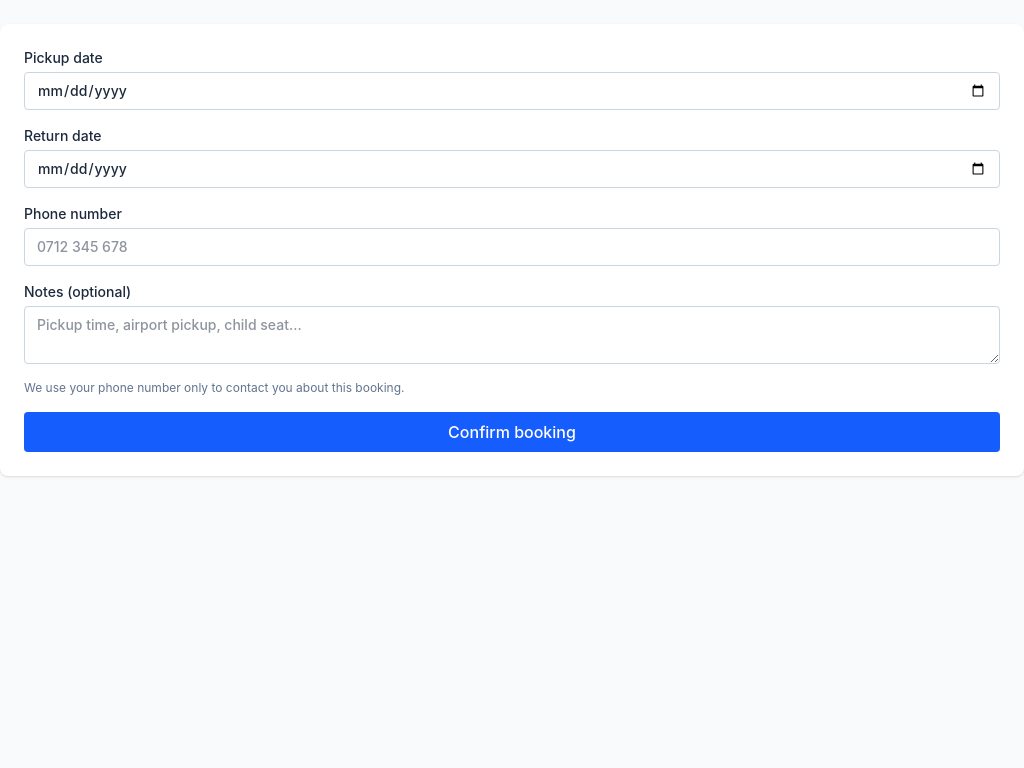
BookingForm › requires a phone number
Type "2099-01-10" into the date field labelled "Pickup date". click: (512, 91)
box: [24, 72, 1000, 110]
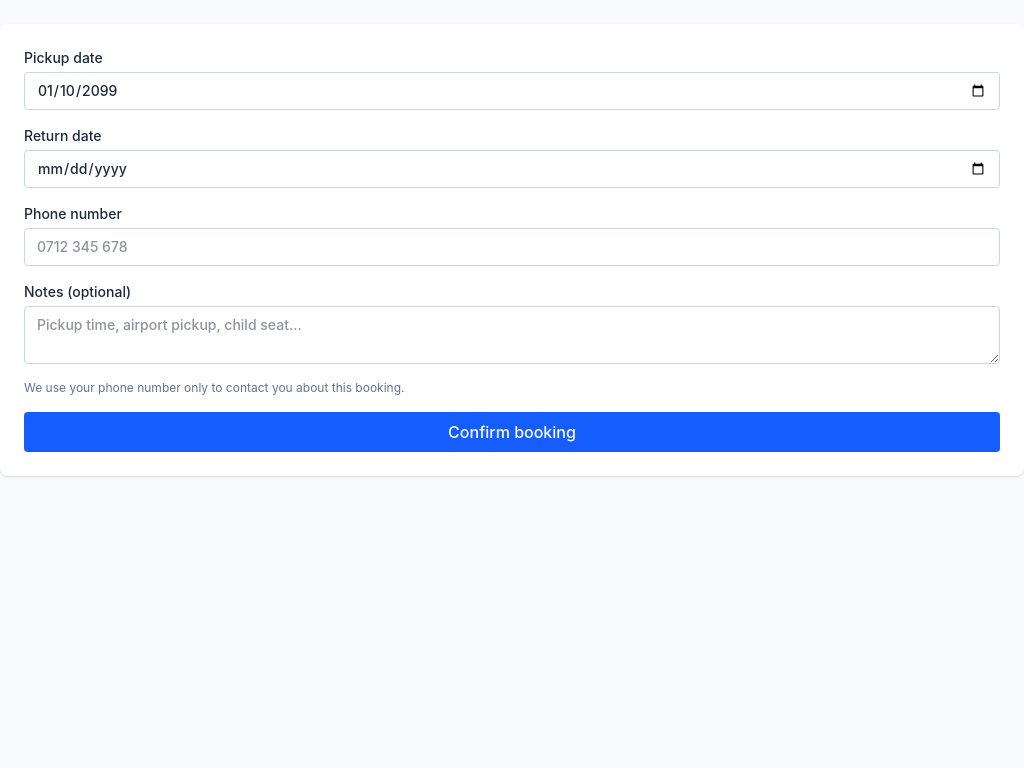
Type "2099-01-13" into the date field labelled "Return date". click: (512, 169)
box: [24, 150, 1000, 188]
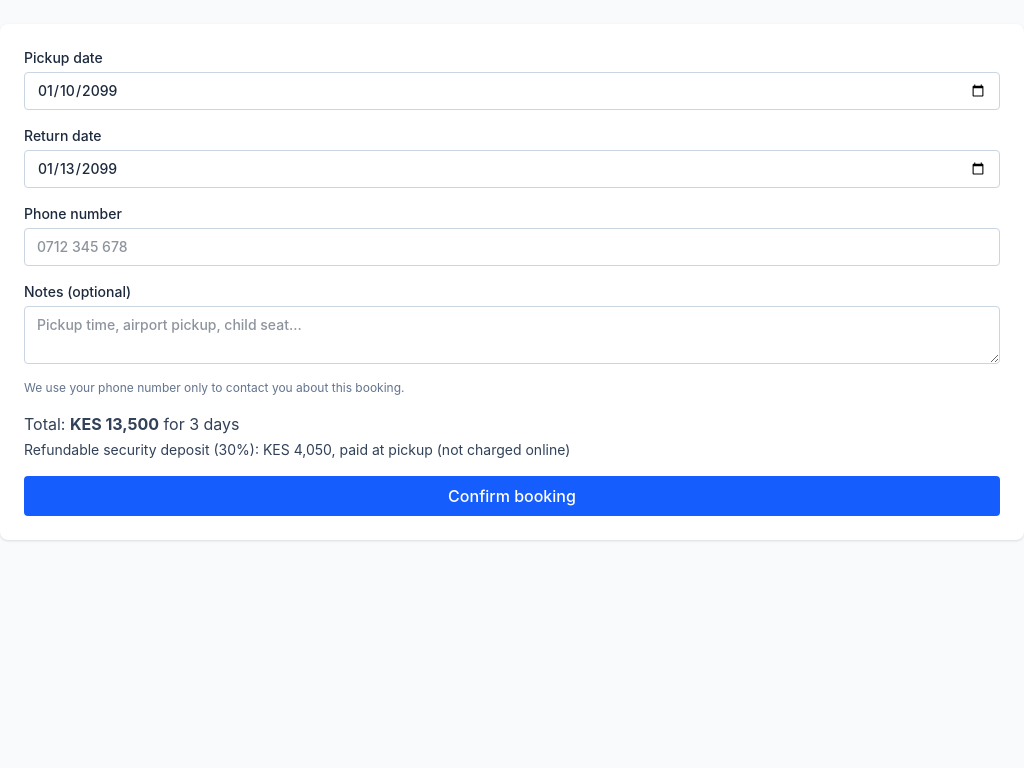
Click the button "Confirm booking". click: (512, 496)
box: [24, 476, 1000, 516]
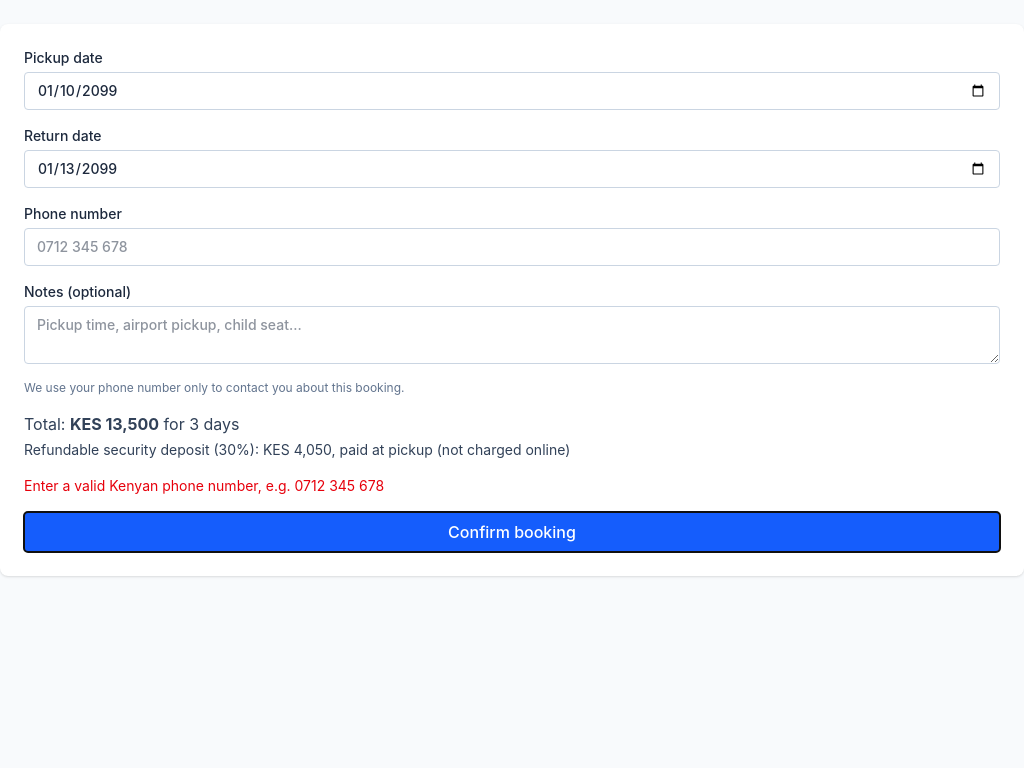
Expected: the message shows "phone number", [24, 477, 384, 494]
